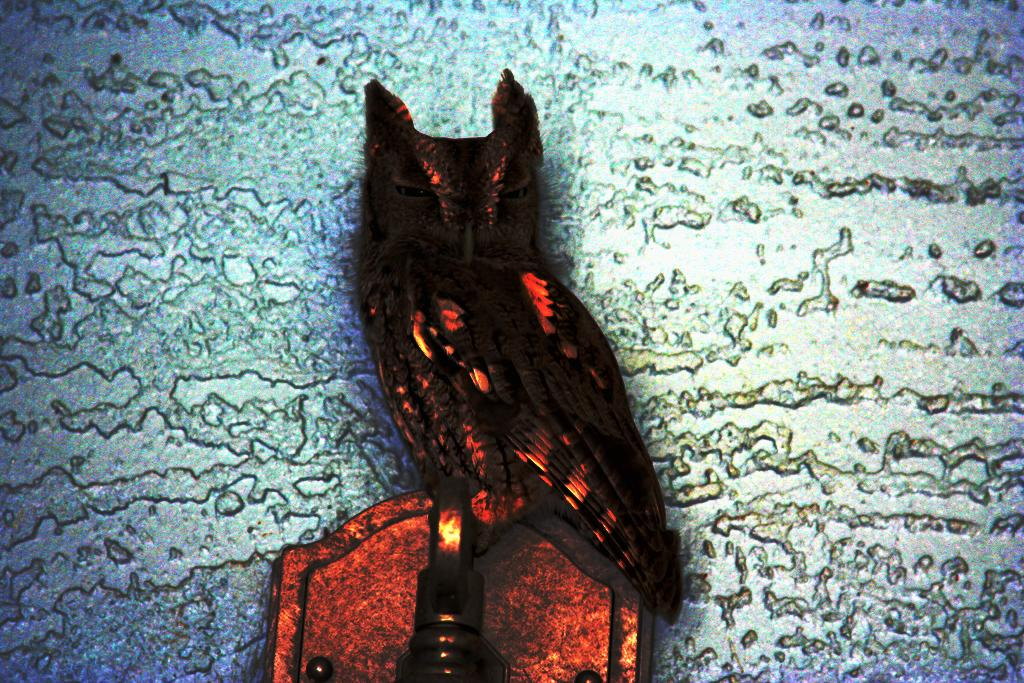Owl: (329, 61, 701, 620)
